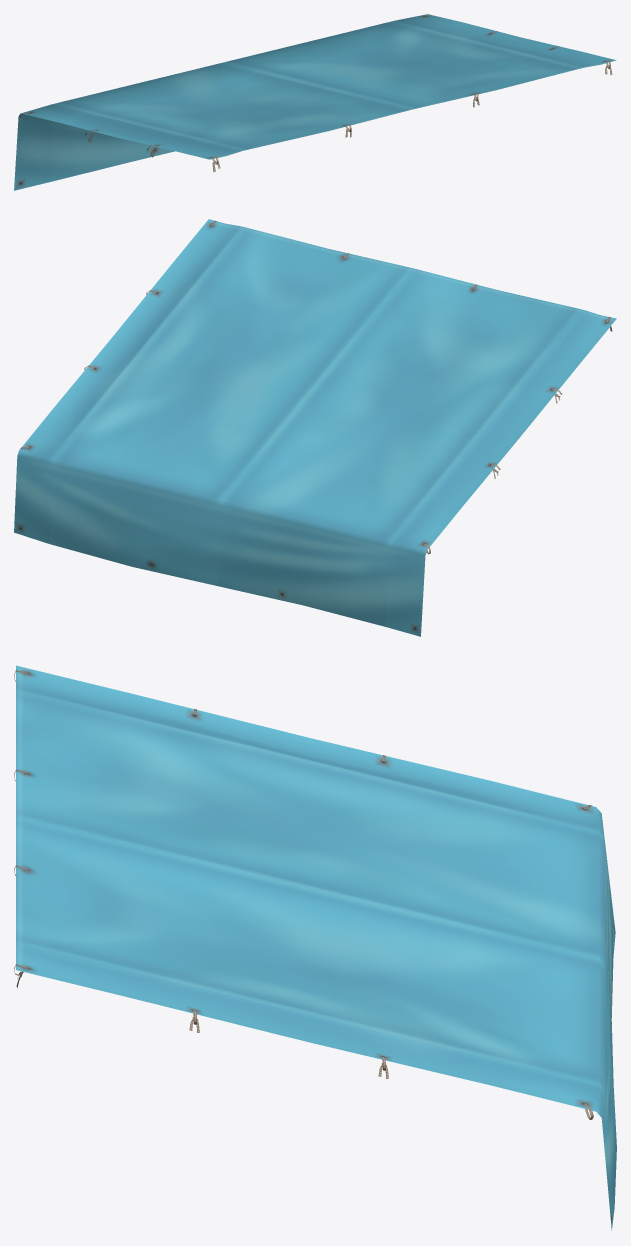
Rendered from jsf_Ceiling_s02_c03_t01.fbx.
3 views of the same model, one above another, from view 1: azimuth 30°, elevation 25°; view 2: azimuth 150°, elevation 25°; view 3: azimuth 270°, elevation 25° (orthographic). The views are drawn at different scales.
Parts seen in each view (by area): view 1: jsf_Ceiling_s02_c03_t01; view 2: jsf_Ceiling_s02_c03_t01; view 3: jsf_Ceiling_s02_c03_t01.
Boxes of the visible parts, <box> form: jsf_Ceiling_s02_c03_t01: <box>14,14,616,190</box>; jsf_Ceiling_s02_c03_t01: <box>14,219,616,636</box>; jsf_Ceiling_s02_c03_t01: <box>14,665,616,1230</box>.
Bounding box in the file's own units: 263 × 106 × 216.
